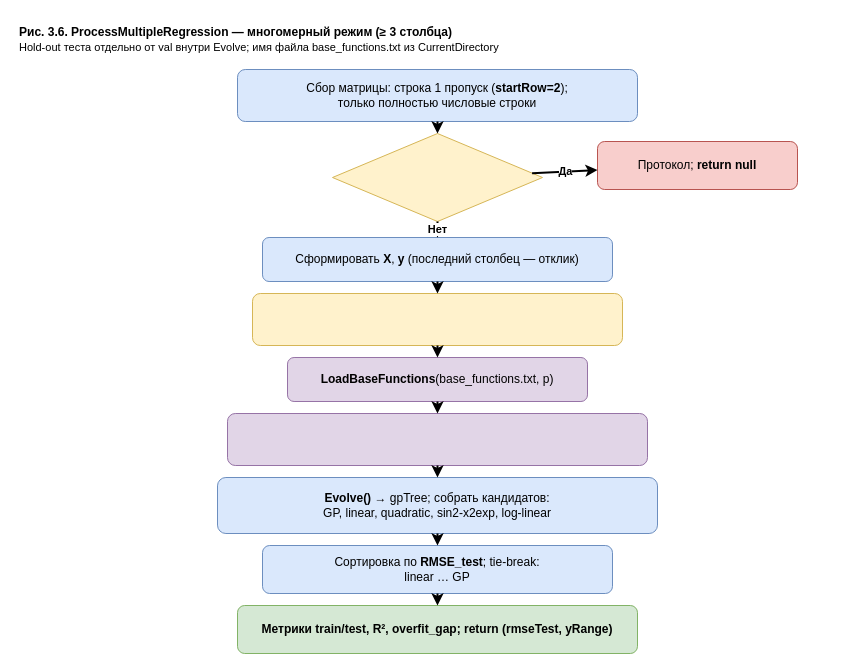
Some shapes in this 854 by 671 pixel diagram are drawn without their labels. The shapes that lost their labels are listed below. From the top down, each one's box as (x1, y1, x2, y2) in pixels, then its label:
(332, 132, 542, 222): n < 2?
(252, 292, 622, 346): Перемешать индексы ( Random(123) ); ~20% в XTest, yTest , остальное train
(226, 412, 648, 466): SymbolicRegressionEngine (XTrain, yTrain, bases, superposition: true)
